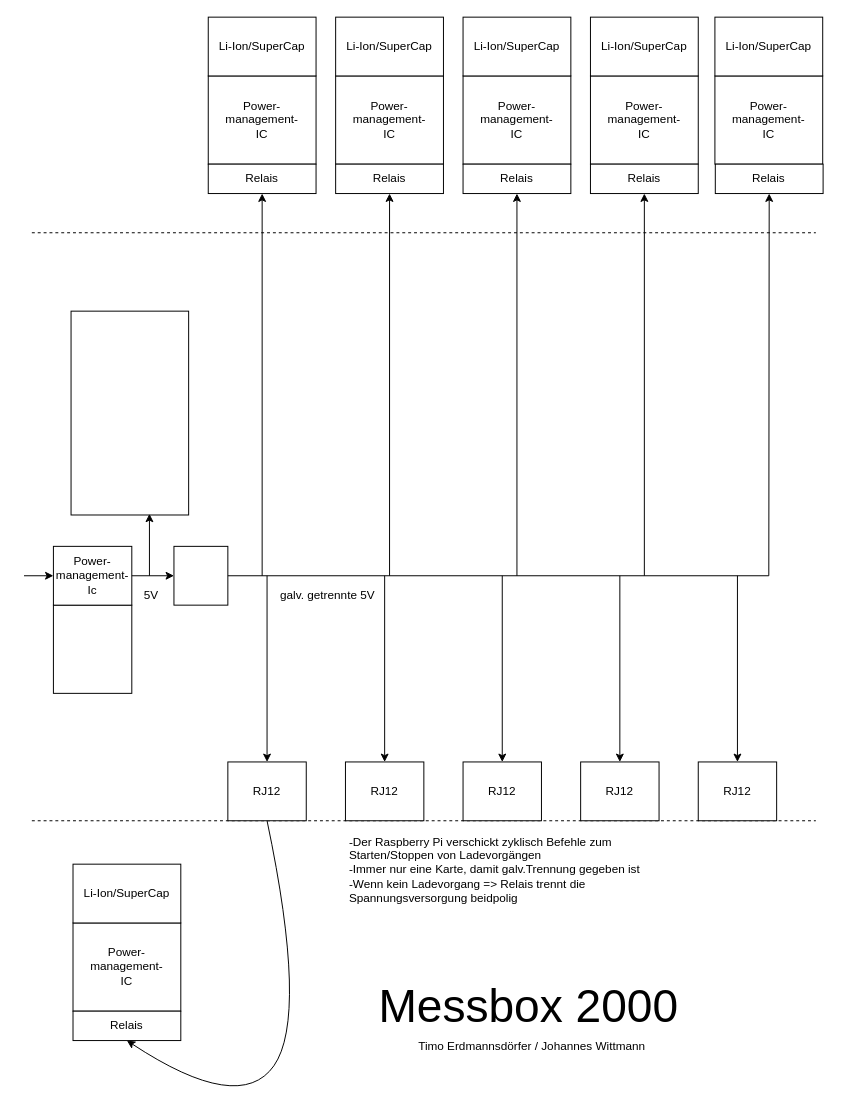
This 841x1103 diagram has some shape labels left out. Here are the shapes that lost their labels. From the top down, the centre of each, then its label:
At [129,412]: "Raspberry Pi zero w".
At [200,575]: "galv. Trennung".
At [92,648]: "Li-Ion".
